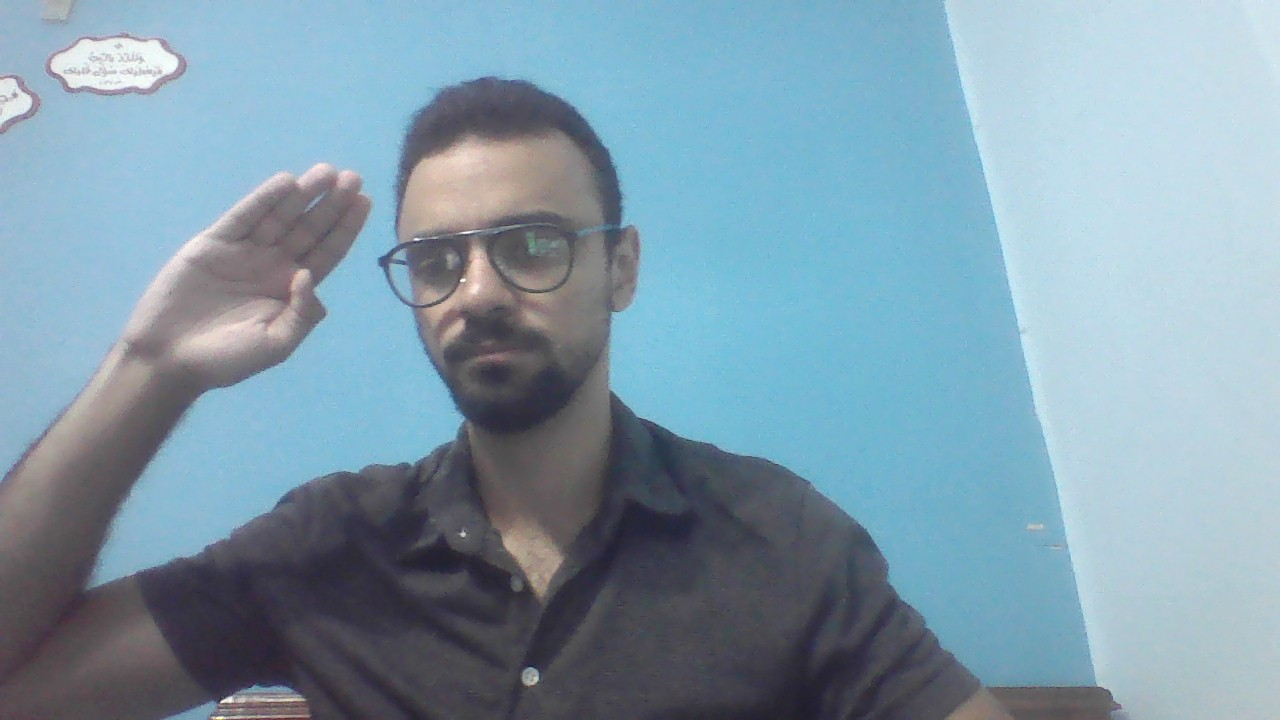hello: (4, 153, 369, 720)
